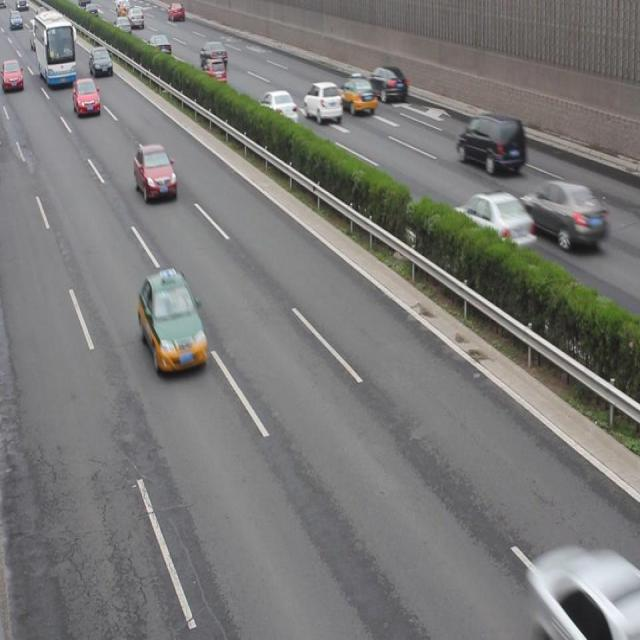car: (530, 553, 640, 639), (138, 270, 207, 377), (524, 179, 606, 251), (454, 192, 536, 252), (133, 146, 177, 204), (338, 75, 375, 116), (304, 84, 342, 122), (368, 66, 407, 102), (258, 90, 297, 125), (72, 77, 100, 116), (1, 59, 25, 94), (200, 41, 228, 68), (90, 48, 114, 76), (203, 58, 227, 84), (146, 35, 172, 57)
truck: (456, 113, 525, 175)
van: (34, 11, 78, 87)
